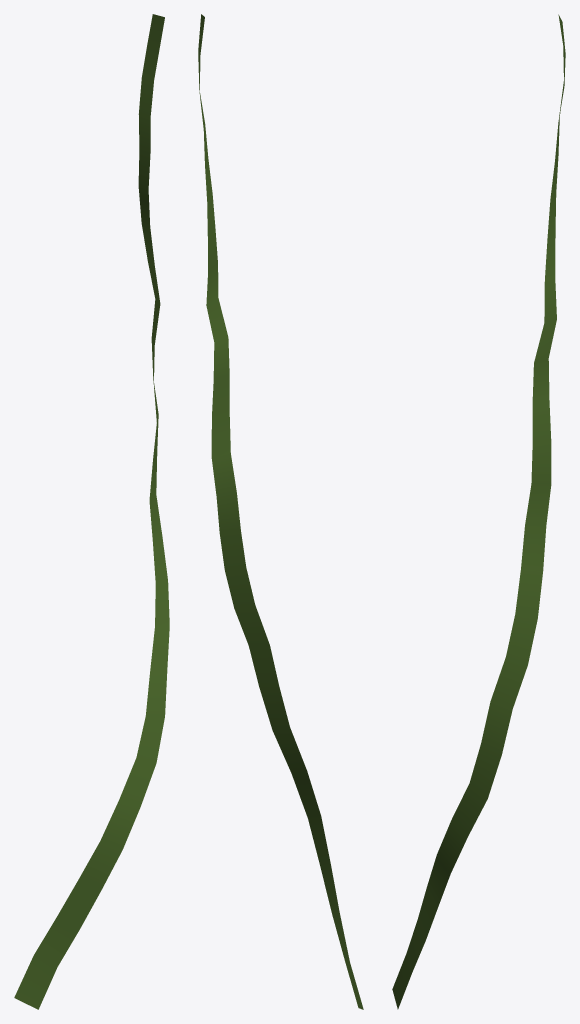
The model's file is plant_swamp_kelp_long_solo_P.fbx.
The picture shows the model from 3 angles, left to right: view 1: azimuth 30°, elevation 25°; view 2: azimuth 150°, elevation 25°; view 3: azimuth 330°, elevation 25°; orthographic projection. The views are drawn at different scales.
Parts seen in each view (by area): view 1: plant_swamp_kelp_long_solo_P; view 2: plant_swamp_kelp_long_solo_P; view 3: plant_swamp_kelp_long_solo_P.
Part boxes in pixels (x1,y1,x2,y2): plant_swamp_kelp_long_solo_P: (14,14,169,1009); plant_swamp_kelp_long_solo_P: (198,14,363,1009); plant_swamp_kelp_long_solo_P: (392,14,565,1009).
Size of the model in its own units: 43.42 by 254 by 21.48.
